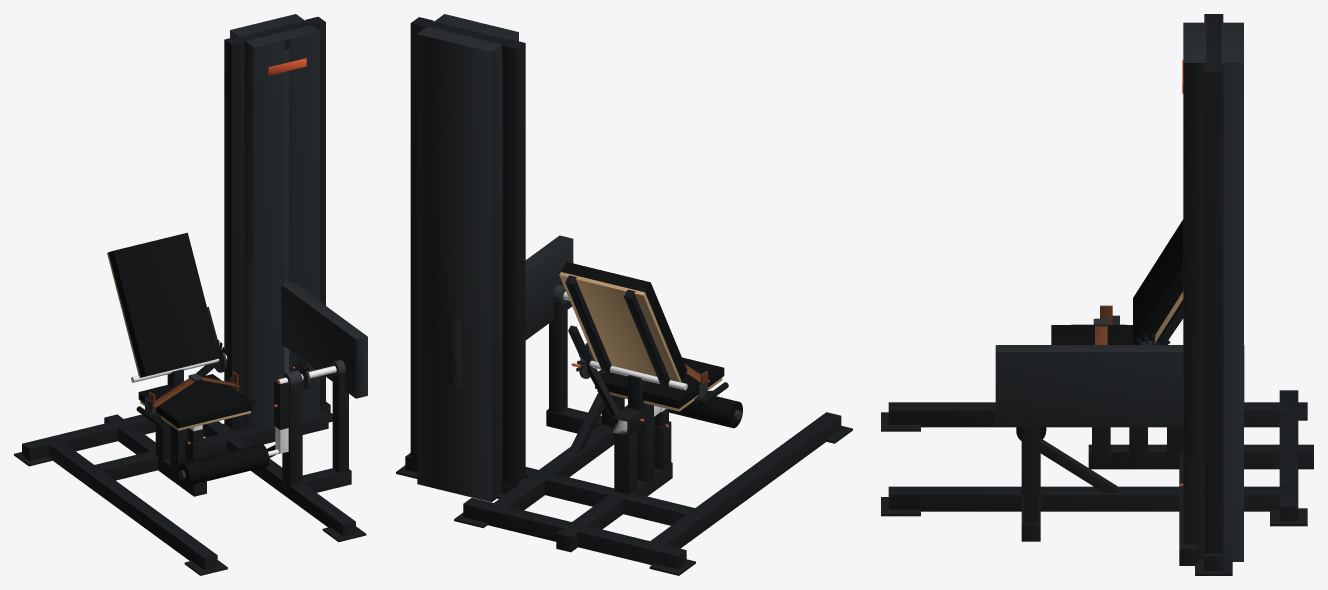
3 views of the same model, side by side, from view 1: azimuth 30°, elevation 25°; view 2: azimuth 150°, elevation 25°; view 3: azimuth 270°, elevation 25° (orthographic). The views are drawn at different scales.
Visible parts, largest first — view 1: shroud.003, pad.001, shroud.004, frame.012, frame.004, shroud, shroud.008, pad, frame.006, frame.008, pad.002, frame.001 (+13 smaller); view 2: shroud.002, frame.012, shroud, frame.004, wood.001, frame.001, frame.013, frame.008, frame.006, shroud.008, pad, frame (+15 smaller); view 3: shroud.001, shroud.009, frame.013, frame.006, frame.004, pad.001, frame, frame.001, shroud.005, frame.047, shroud.011, pad (+7 smaller).
Part boxes in pixels (x1,y1,x2,y2): shroud.003: [254, 40, 284, 431]; pad.001: [108, 232, 219, 377]; shroud.004: [289, 31, 319, 419]; frame.012: [224, 36, 244, 428]; frame.004: [45, 438, 217, 569]; shroud: [230, 30, 254, 431]; shroud.008: [281, 285, 355, 397]; pad: [138, 374, 252, 428]; frame.006: [202, 421, 355, 536]; frame.008: [95, 410, 328, 480]; pad.002: [178, 443, 269, 486]; frame.001: [22, 414, 155, 460]; shroud.002: [417, 34, 491, 502]; frame.012: [502, 39, 525, 483]; shroud: [491, 32, 518, 501]; frame.004: [646, 412, 841, 548]; wood.001: [559, 272, 681, 382]; frame.001: [463, 498, 686, 569]; frame.013: [410, 17, 433, 459]; frame.008: [525, 467, 694, 525]; frame.006: [490, 405, 627, 510]; shroud.008: [525, 239, 572, 339]; pad: [595, 357, 724, 408]; frame: [556, 462, 672, 552]; shroud.001: [1183, 62, 1243, 561]; shroud.009: [996, 352, 1183, 426]; frame.013: [1204, 63, 1223, 553]; frame.006: [888, 486, 1288, 511]; frame.004: [888, 402, 1288, 427]; pad.001: [1133, 219, 1183, 344]; frame: [1088, 444, 1313, 469]; frame.001: [1279, 390, 1298, 521]; shroud.005: [1183, 22, 1243, 62]; frame.047: [1023, 426, 1038, 523]; shroud.011: [996, 345, 1183, 352]; pad: [1051, 325, 1134, 344].
Size of the model in its own units: 1.62 by 2.2 by 1.73.
